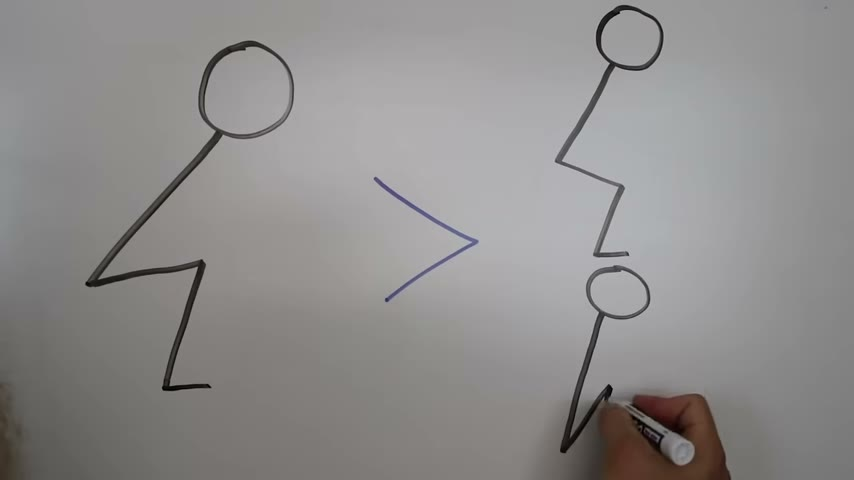barbell_plate_side: (122, 33, 305, 411)
